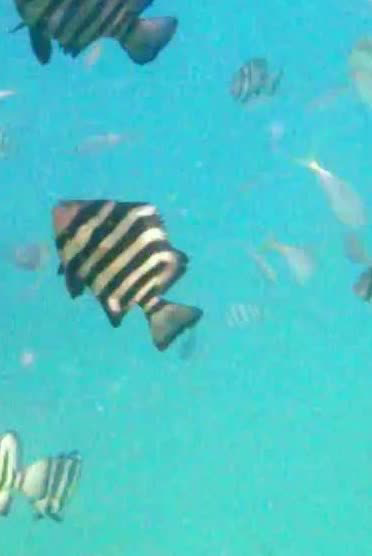ishidai: (41, 188, 198, 352)
